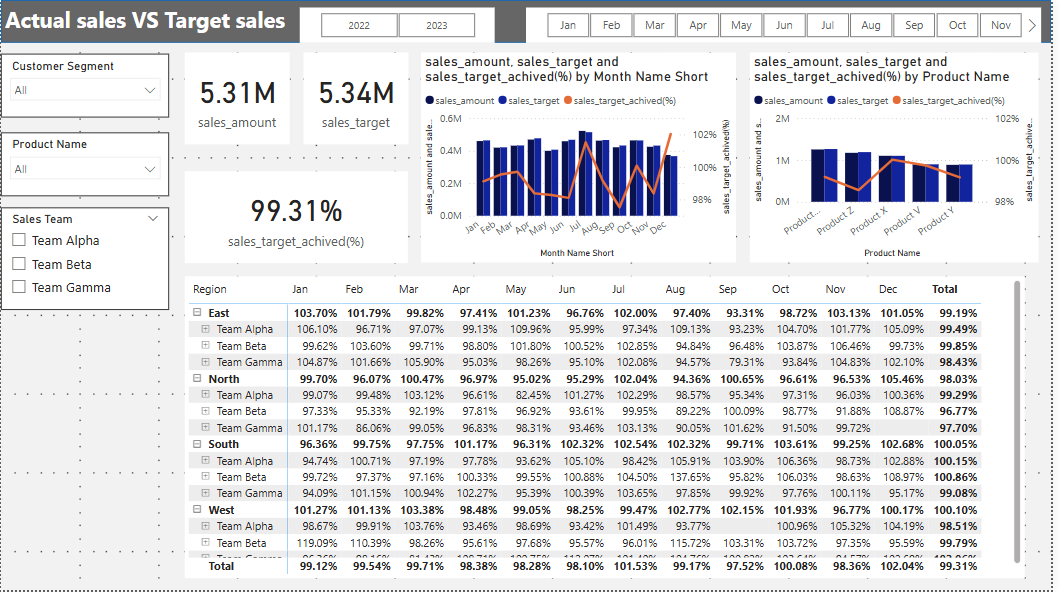

What the dashboard file says about the page in this screenshot:
{"tool":"powerbi","page":{"name":"Page 1","canvas":[1280,720],"ordinal":0},"visuals":[{"type":"shape","box":[0,0,1280.3,52.1],"z":0},{"type":"textbox","box":[0,0,363.9,52],"z":1000},{"type":"slicer","fields":{"Values":["Date.Year"]},"box":[363.9,8.9,237.6,43.1],"z":2000},{"type":"slicer","fields":{"Values":["Date.Month Name Short"]},"box":[640.2,8.9,628.3,43.1],"z":3000},{"type":"slicer","fields":{"Values":["actual_vs_target_sales_dataset.Customer Segment"]},"box":[0,65.4,205,77.2],"z":4000},{"type":"slicer","fields":{"Values":["actual_vs_target_sales_dataset.Product Name"]},"box":[0,161.9,205,77.2],"z":5000},{"type":"slicer","fields":{"Values":["actual_vs_target_sales_dataset.Sales Team"]},"box":[0,252.5,205,124.8],"z":6000},{"type":"card","fields":{"Values":["actual_vs_target_sales_dataset.sales_amount"]},"box":[219.8,65.4,156,108.4],"z":7000},{"type":"card","fields":{"Values":["actual_vs_target_sales_dataset.sales_target"]},"box":[389.1,65.4,157.4,108.4],"z":8000},{"type":"card","fields":{"Values":["actual_vs_target_sales_dataset.sales_target_achived(%)"]},"box":[219.8,182.7,325.3,108.4],"z":9000},{"type":"lineClusteredColumnComboChart","fields":{"Y":["actual_vs_target_sales_dataset.sales_amount","actual_vs_target_sales_dataset.sales_target"],"Y2":["actual_vs_target_sales_dataset.sales_target_achived(%)"],"Category":["Date.Month Name Short"]},"box":[559.9,66.8,353.5,224.3],"z":9001},{"type":"lineClusteredColumnComboChart","fields":{"Y":["actual_vs_target_sales_dataset.sales_amount","actual_vs_target_sales_dataset.sales_target"],"Y2":["actual_vs_target_sales_dataset.sales_target_achived(%)"],"Category":["actual_vs_target_sales_dataset.Product Name"]},"box":[934.2,65.4,334.2,225.8],"z":9002},{"type":"pivotTable","fields":{"Rows":["actual_vs_target_sales_dataset.Region","actual_vs_target_sales_dataset.Sales Team","actual_vs_target_sales_dataset.Sales Representative"],"Columns":["Date.Quarter Name","Date.Month Name Short"],"Values":["actual_vs_target_sales_dataset.sales_target_achived(%)"]},"box":[219.8,303,1032.3,374.3],"z":9003}]}

Visuals, with their boxes in screenshot pixels (x1, y1, x2, y2), scaled from the page's 1280x720 canvas onto the 1060x592 screenshot:
shape: bbox(0, 0, 1059, 43)
textbox: bbox(0, 0, 301, 43)
slicer - Date.Year: bbox(301, 7, 498, 43)
slicer - Date.Month Name Short: bbox(530, 7, 1050, 43)
slicer - actual_vs_target_sales_dataset.Customer Segment: bbox(0, 54, 170, 117)
slicer - actual_vs_target_sales_dataset.Product Name: bbox(0, 133, 170, 197)
slicer - actual_vs_target_sales_dataset.Sales Team: bbox(0, 208, 170, 310)
card - actual_vs_target_sales_dataset.sales_amount: bbox(182, 54, 311, 143)
card - actual_vs_target_sales_dataset.sales_target: bbox(322, 54, 453, 143)
card - actual_vs_target_sales_dataset.sales_target_achived(%): bbox(182, 150, 451, 239)
lineClusteredColumnComboChart - actual_vs_target_sales_dataset.sales_amount x actual_vs_target_sales_dataset.sales_target: bbox(464, 55, 756, 239)
lineClusteredColumnComboChart - actual_vs_target_sales_dataset.sales_amount x actual_vs_target_sales_dataset.sales_target: bbox(774, 54, 1050, 239)
pivotTable - actual_vs_target_sales_dataset.Region x actual_vs_target_sales_dataset.Sales Team: bbox(182, 249, 1037, 557)
